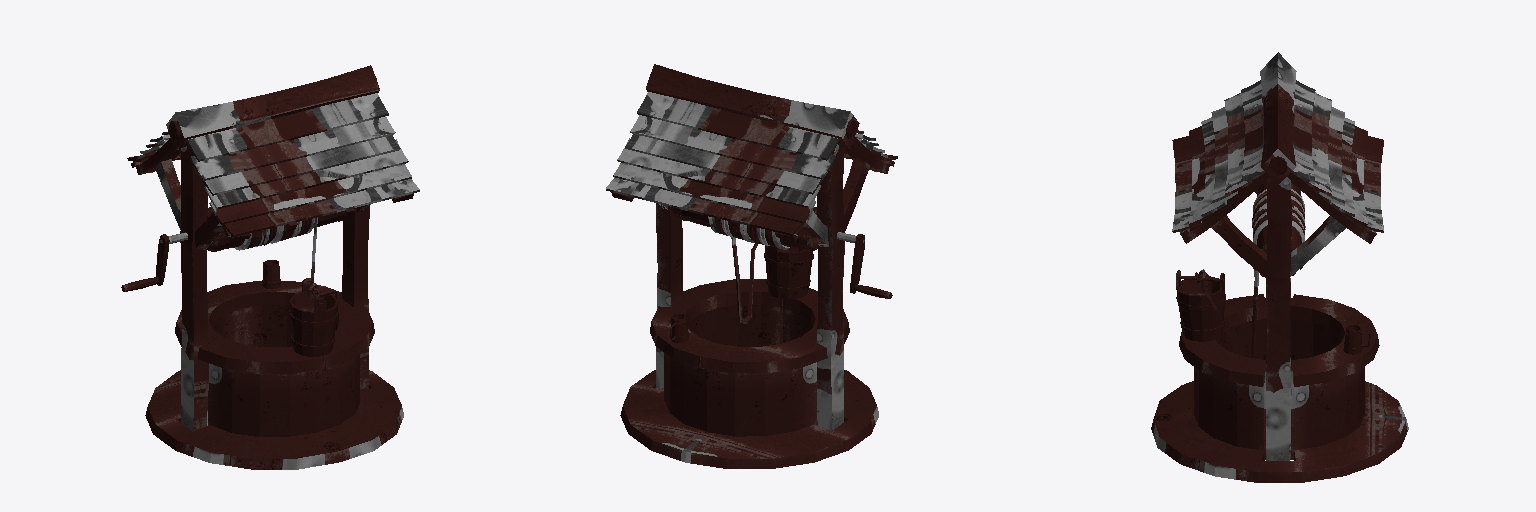
3 renders of one model, left to right at view 1: azimuth 30°, elevation 25°; view 2: azimuth 150°, elevation 25°; view 3: azimuth 270°, elevation 25°, orthographic.
Parts seen in each view (by area): view 1: waterwell; view 2: waterwell; view 3: waterwell.
Part boxes in pixels (bbox=[...]): waterwell: bbox=[121, 65, 419, 469]; waterwell: bbox=[606, 64, 897, 468]; waterwell: bbox=[1151, 52, 1408, 482].
Size of the model in its own units: 1.01 by 1.22 by 0.8705.
Materials: 1 (1 with a texture image).